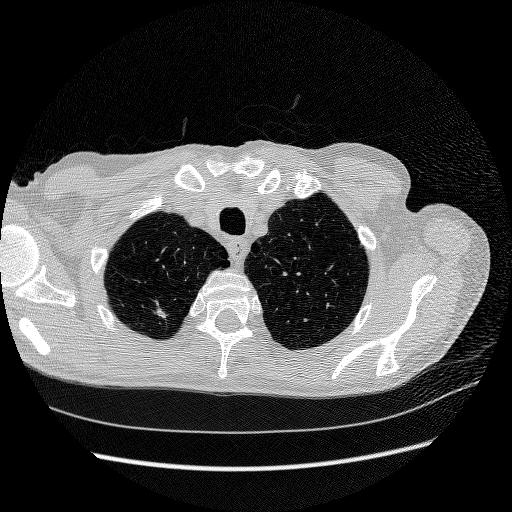nodule: (153, 306, 167, 320)
